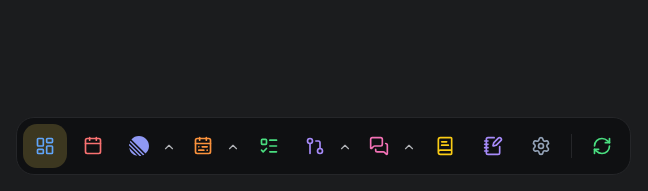
Test: Dock groups › closes the drop-up with Escape and returns focus to the chevron
This screenshot has width=648, height=191.
Click the button named "More Pull requests screens" at (344, 146), box [334, 124, 354, 168]
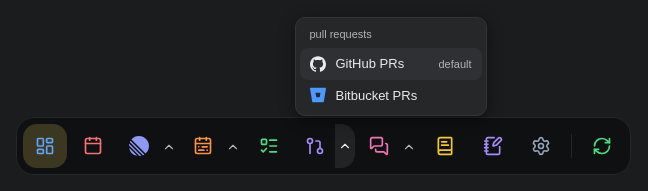
Press Escape in the menu "Pull requests", box [294, 16, 486, 116]
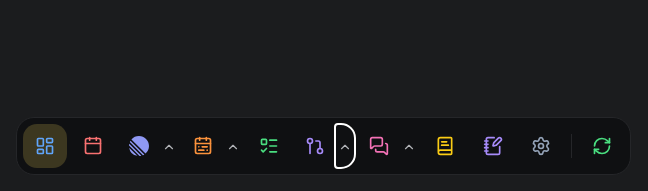
Now the menu is gone
